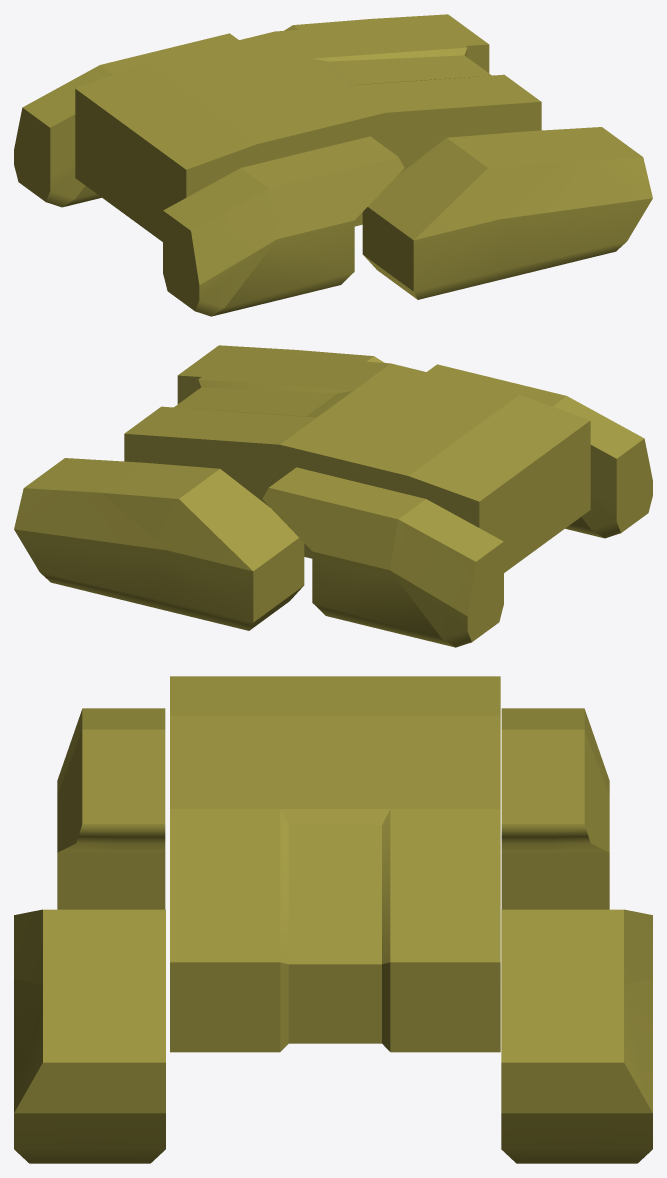
File: playerTank05.fbx
The picture shows the model from 3 angles, top to bottom: view 1: azimuth 30°, elevation 25°; view 2: azimuth 150°, elevation 25°; view 3: azimuth 270°, elevation 25°; orthographic projection. The views are drawn at different scales.
Parts seen in each view (by area): view 1: playerTank4; view 2: playerTank4; view 3: playerTank4.
Part boxes in pixels (<box>): playerTank4: <box>14,14,652,316</box>; playerTank4: <box>14,345,652,647</box>; playerTank4: <box>14,676,652,1163</box>.
Size of the model in its own units: 173 by 56.08 by 146.
